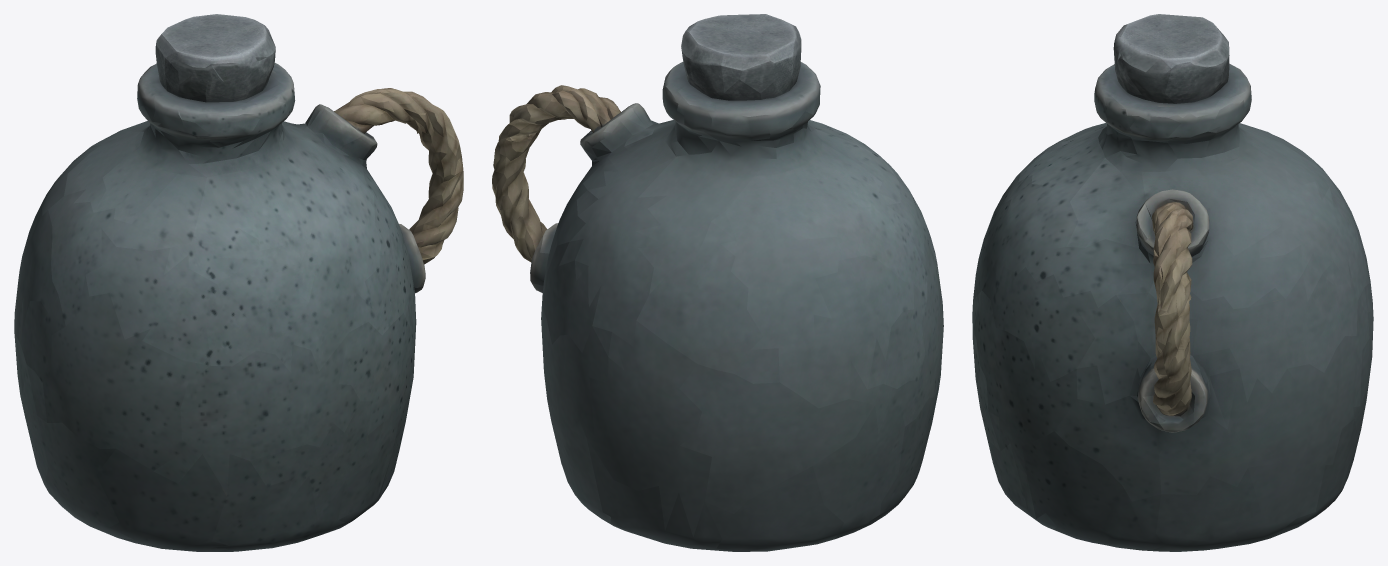
File: stoneguard_brew.glb
3 renders of one model, left to right at view 1: azimuth 30°, elevation 25°; view 2: azimuth 150°, elevation 25°; view 3: azimuth 270°, elevation 25°, orthographic.
Visible parts, largest first — view 1: Mesh_0; view 2: Mesh_0; view 3: Mesh_0.
Part boxes in pixels (left/top/right/bottom): Mesh_0: left=14, top=14, right=463, bottom=551; Mesh_0: left=492, top=14, right=943, bottom=551; Mesh_0: left=972, top=14, right=1373, bottom=551.
Bounding box in the file's own units: 0.3887 × 0.4 × 0.3215.
1 material, 1 textured.
